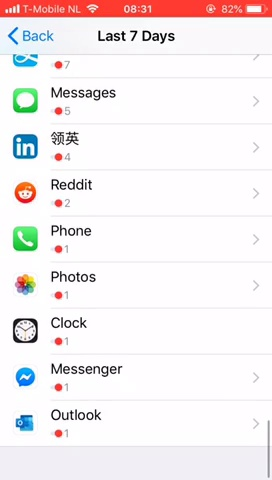not_app: (6, 78, 152, 124), (10, 355, 138, 401), (5, 125, 132, 171), (8, 309, 135, 352), (6, 218, 128, 261), (4, 173, 125, 216), (6, 264, 121, 308), (11, 405, 123, 445)
week: (89, 25, 186, 47)
